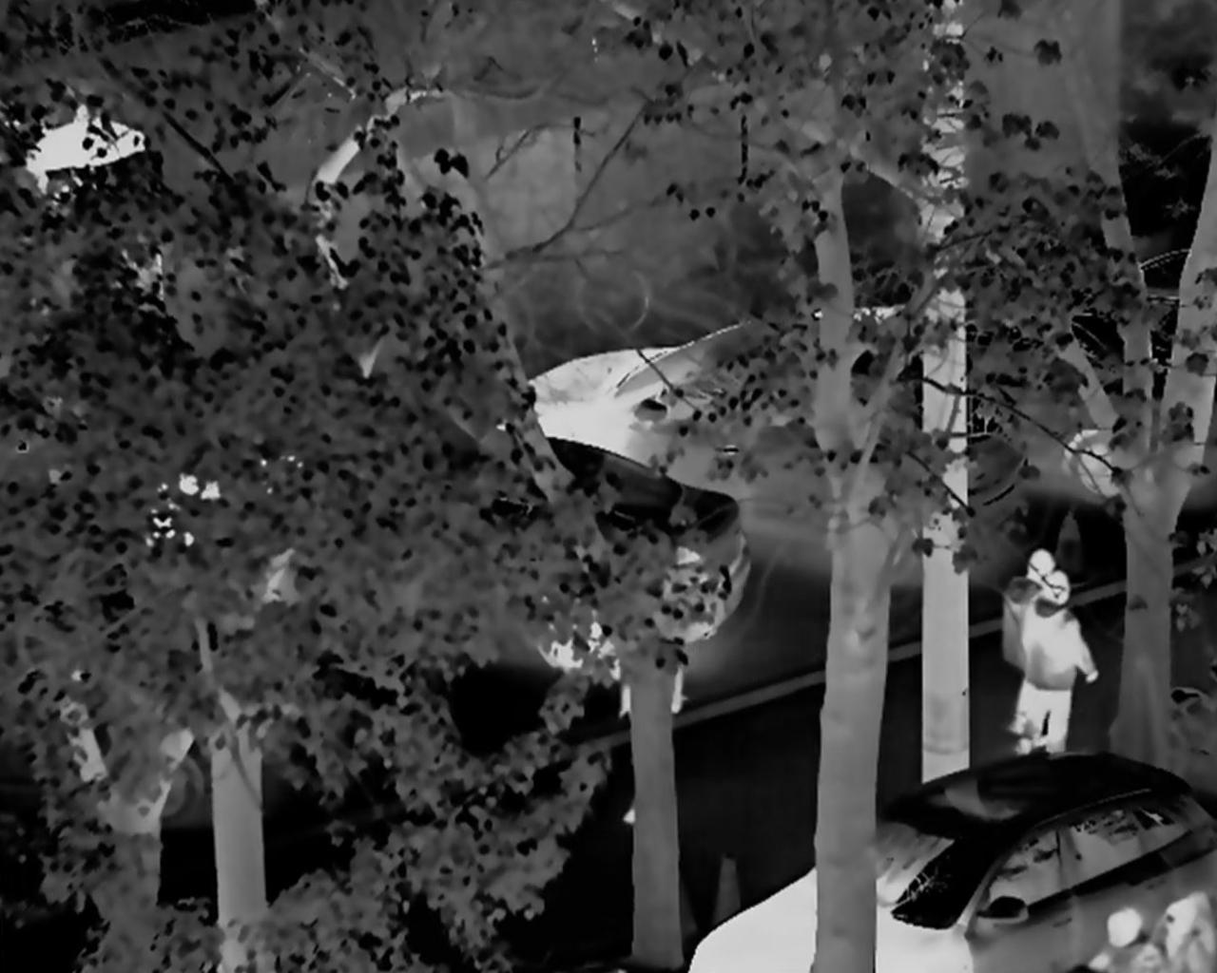person: (1026, 576, 1102, 771), (1000, 539, 1053, 745)
